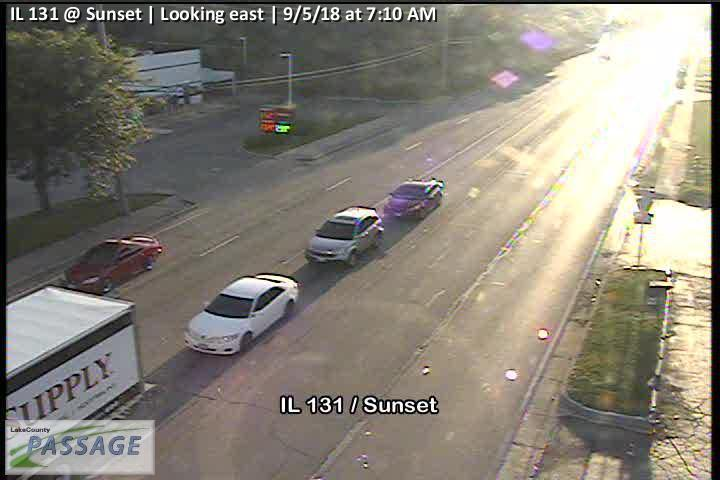Sedan: (183, 273, 302, 356), (63, 233, 163, 294), (302, 204, 385, 267), (384, 177, 445, 219)
Truck: (7, 281, 159, 480)
